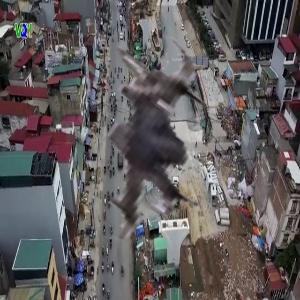drone: (24, 30, 249, 255)
